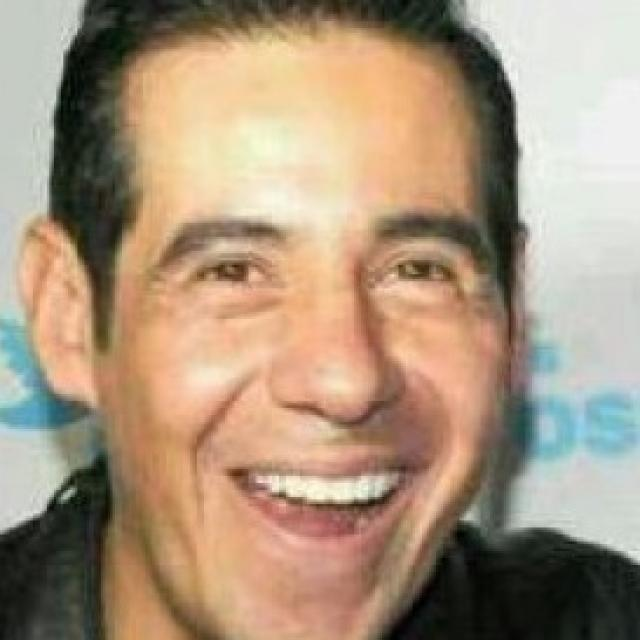Normal: (111, 30, 516, 638)
